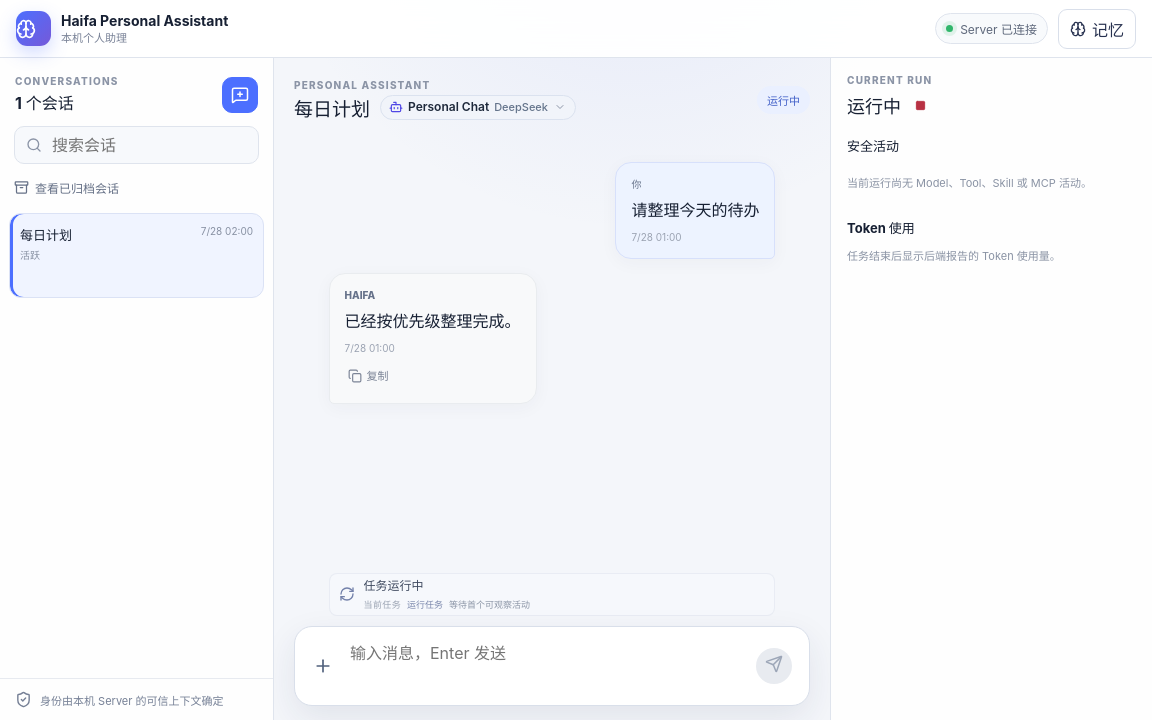
Test case: Personal Assistant application › refreshes the conversation and explains an active-run conflict without exposing the raw API error
The image size is (1152, 720).
Expected: the text "每日计划" is shown, [20, 227, 72, 243]
Step 1. Type "继续刚才的任务" into the text box named "给个人助理发送消息" → (548, 666), box [349, 636, 747, 696]
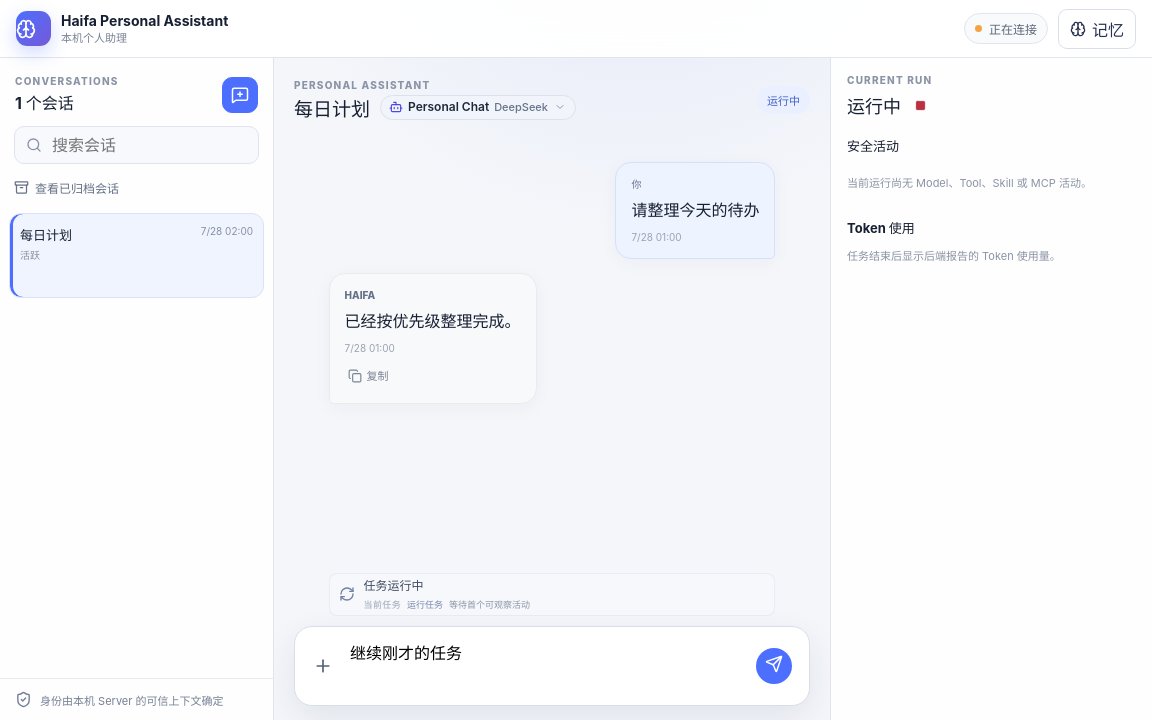
Step 2. Submit the form named "给个人助理发送消息", box [294, 626, 810, 706]
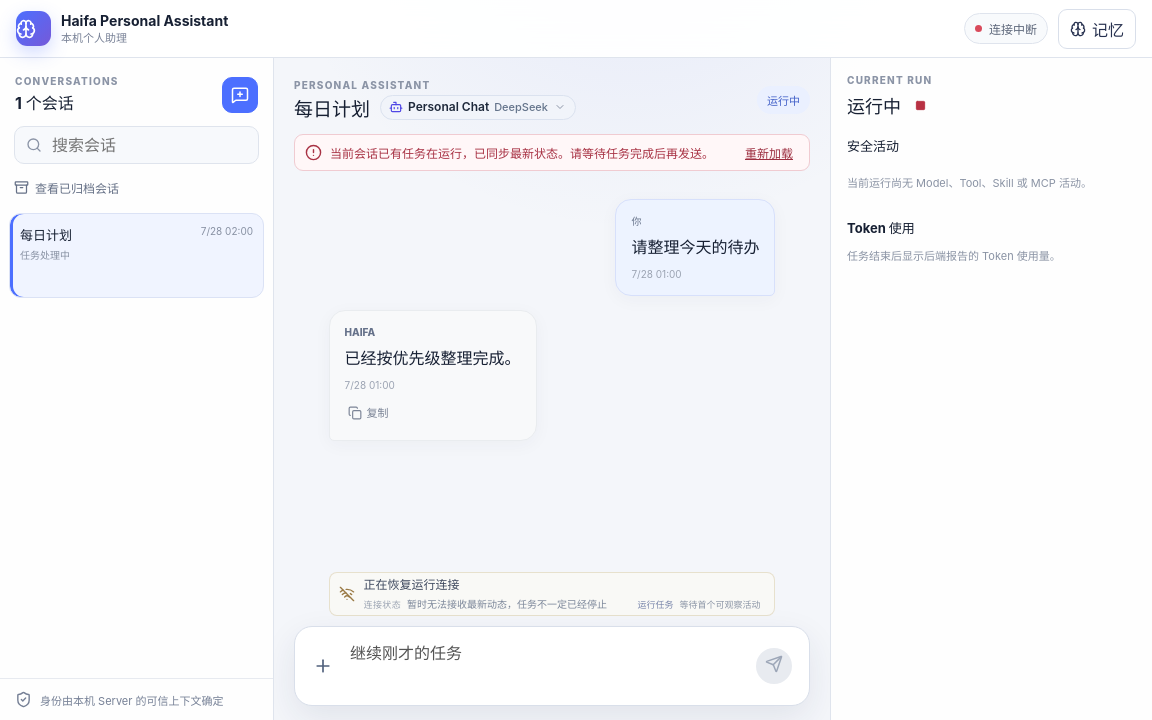
Expected: the text "当前会话已有任务在运行，已同步最新状态。请等待任务完成后再发送。" is shown, [330, 144, 731, 161]
Expected: the text box named "给个人助理发送消息" is disabled, [349, 636, 747, 696]
